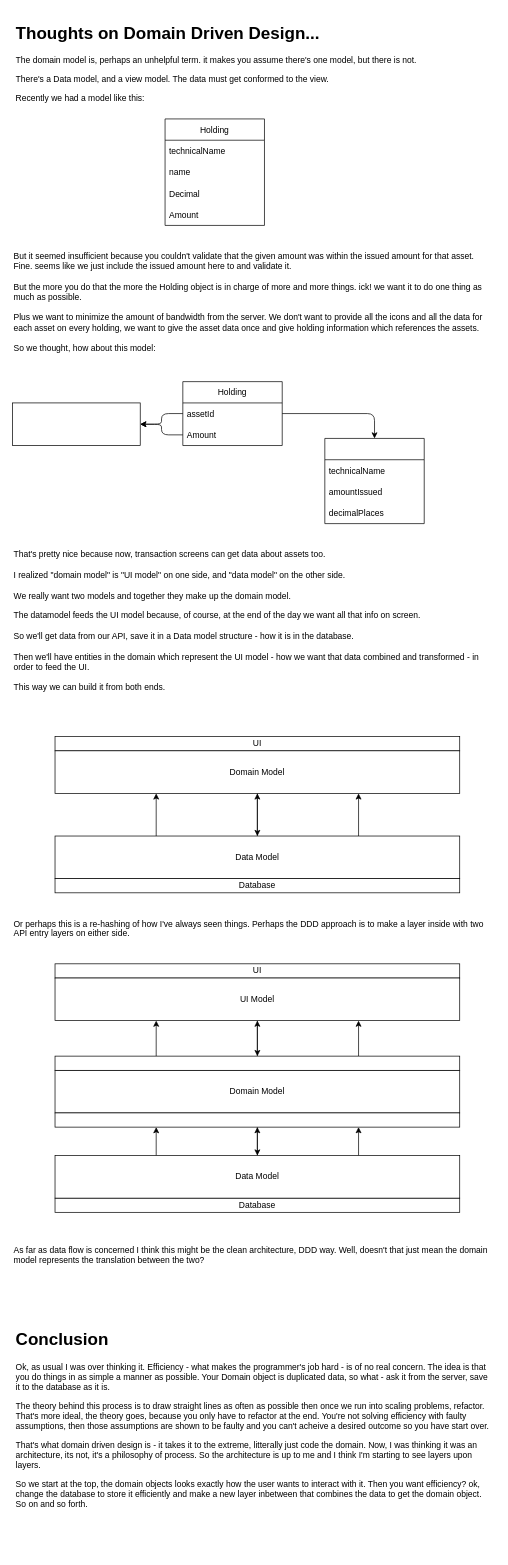
The diagram is 508 pixels wide and 1565 high, and some of its shapes have lost their labels. The box of each missing label's shape, as (x1, y1, x2, y2) in pixels:
Asset: (324, 438, 424, 524)
Repository Interfaces: (54, 1112, 460, 1127)
UI Interfaces: (54, 1055, 460, 1070)
will validate amount is within asset boundaries: (12, 402, 140, 446)
